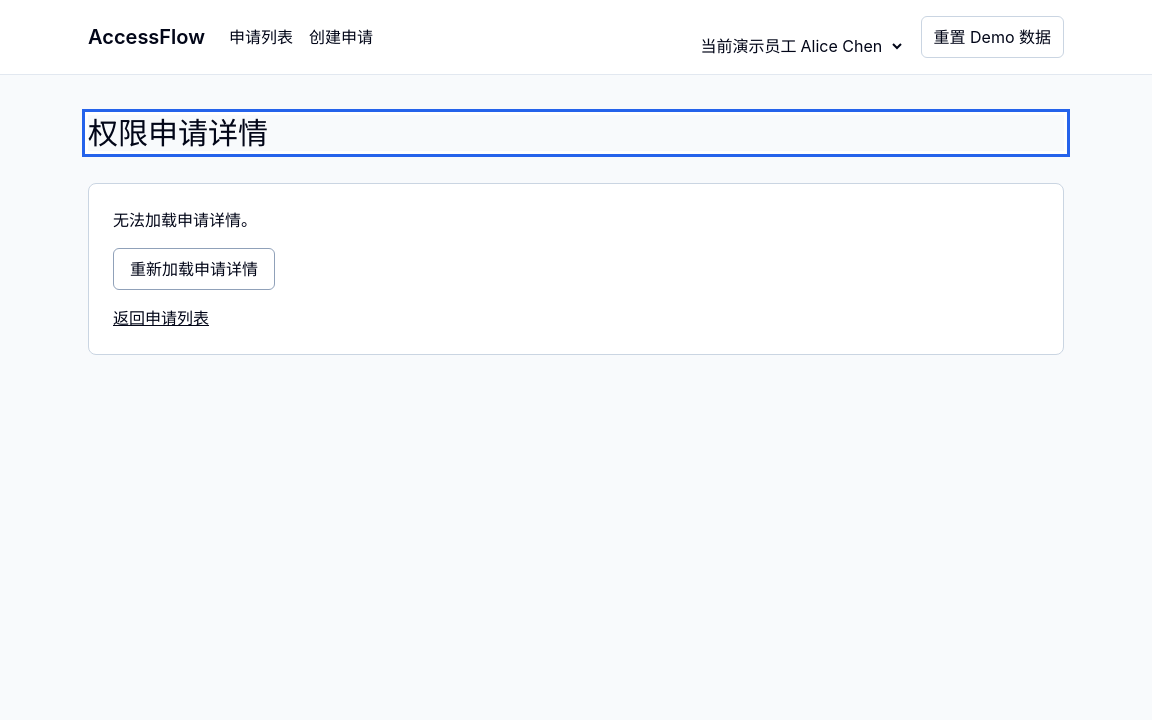
申请详情页面 › 保留直达路径并在加载错误后显式重试
The width and height of the screenshot is (1152, 720).
expect the message shows "无法加载申请详情。": met, box [113,210,257,230]
Step 1. Click the button "重新加载申请详情" → coordinates (194, 269), box [113,248,275,290]
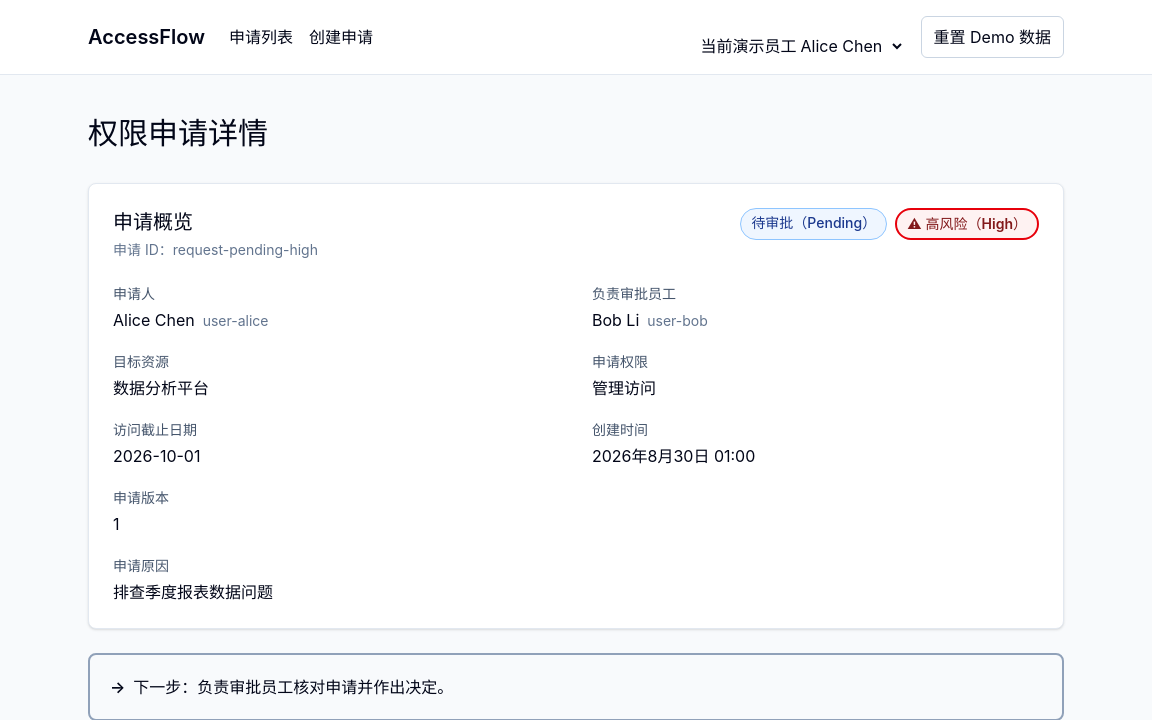
expect the text "数据分析平台" is shown: met, box [113,378,209,398]
